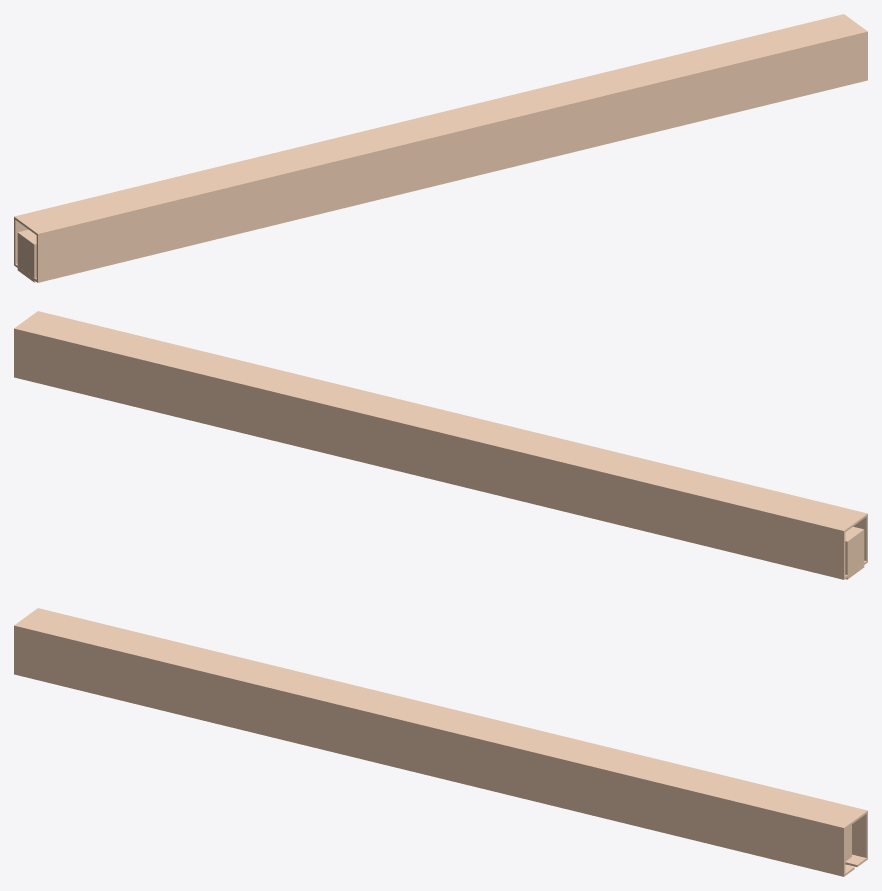
The model's file is SPBA-LINEAR-ADJ-800-Gold.glb.
3 views of the same model, one above another, from view 1: azimuth 30°, elevation 25°; view 2: azimuth 150°, elevation 25°; view 3: azimuth 330°, elevation 25° (orthographic).
Parts seen in each view (by area): view 1: Mesh_1.010, Mesh_0.009; view 2: Mesh_1.010, Mesh_0.009; view 3: Mesh_1.010.
Boxes of the visible parts, x1=… form: Mesh_1.010: x1=14, y1=14, x2=867, y2=282; Mesh_0.009: x1=17, y1=229, x2=36, y2=282; Mesh_1.010: x1=14, y1=311, x2=867, y2=579; Mesh_0.009: x1=845, y1=526, x2=864, y2=579; Mesh_1.010: x1=14, y1=608, x2=867, y2=876.
Size of the model in its own units: 0.8 by 0.0472 by 0.04.
